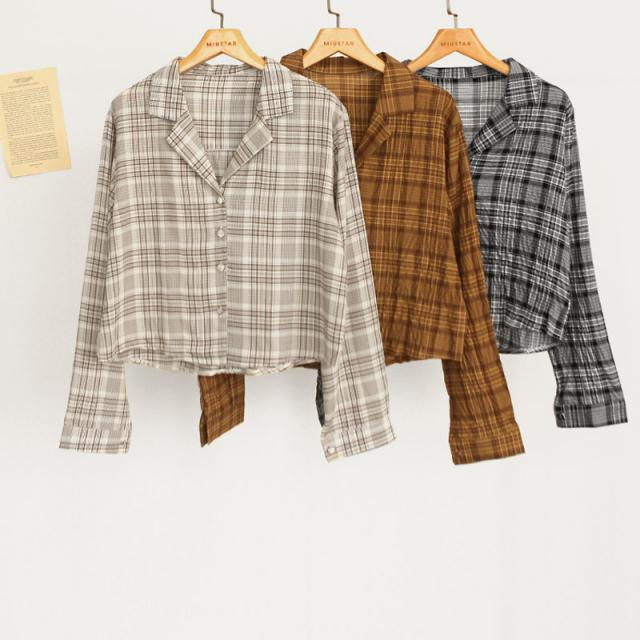plaid: (297, 33, 516, 468), (64, 65, 366, 359), (437, 13, 625, 431)
